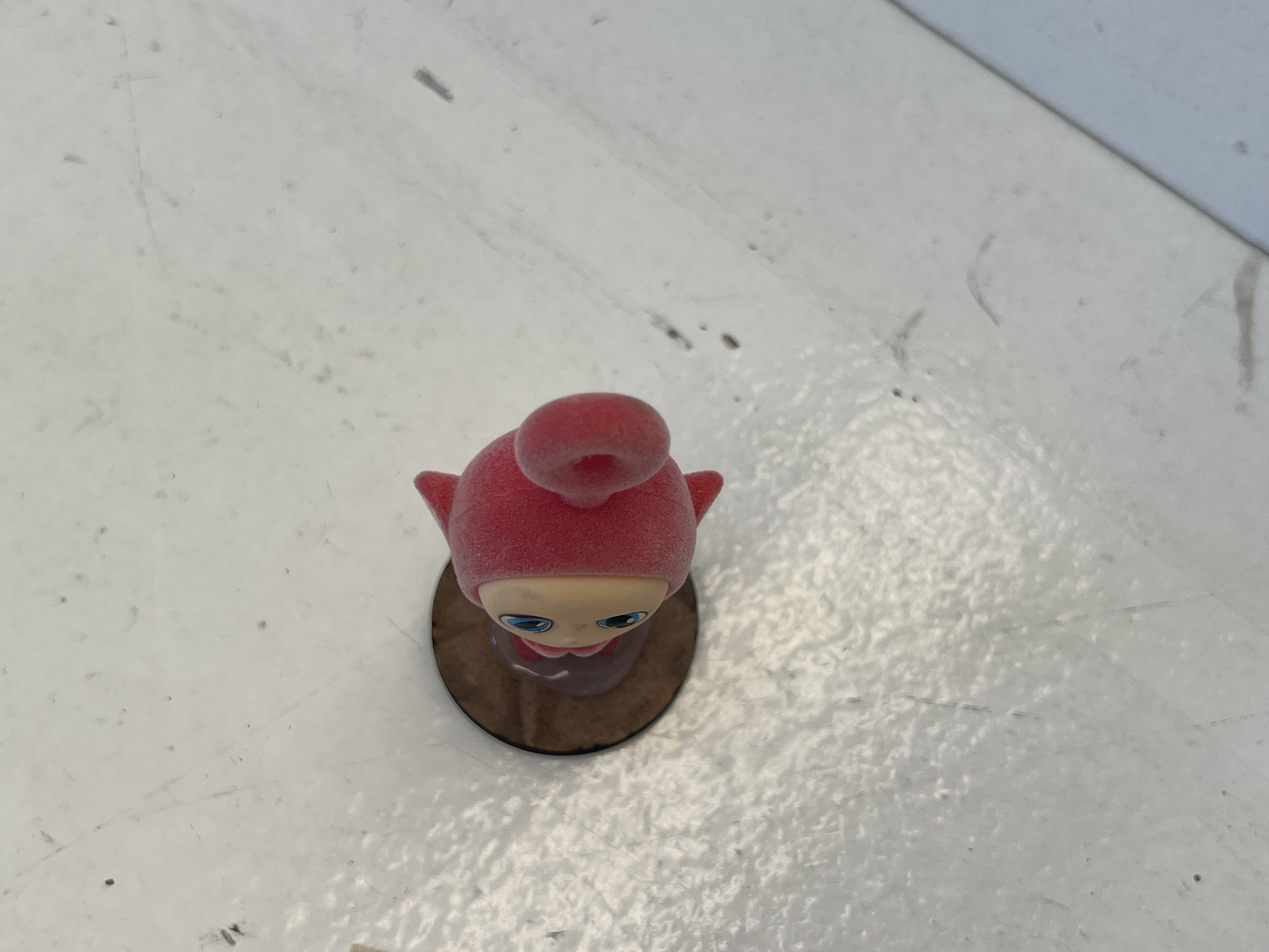teletubby: (414, 393, 723, 661)
